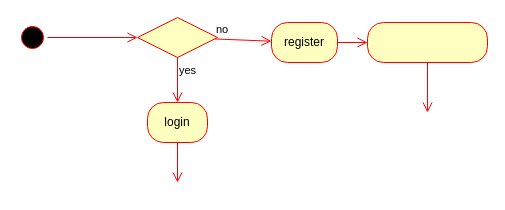
Image size: 505x210. Some labels were removed from this diagram. Each missing label, with the centre of its shape:
create default space: (x=427, y=42)
user: (x=177, y=37)
